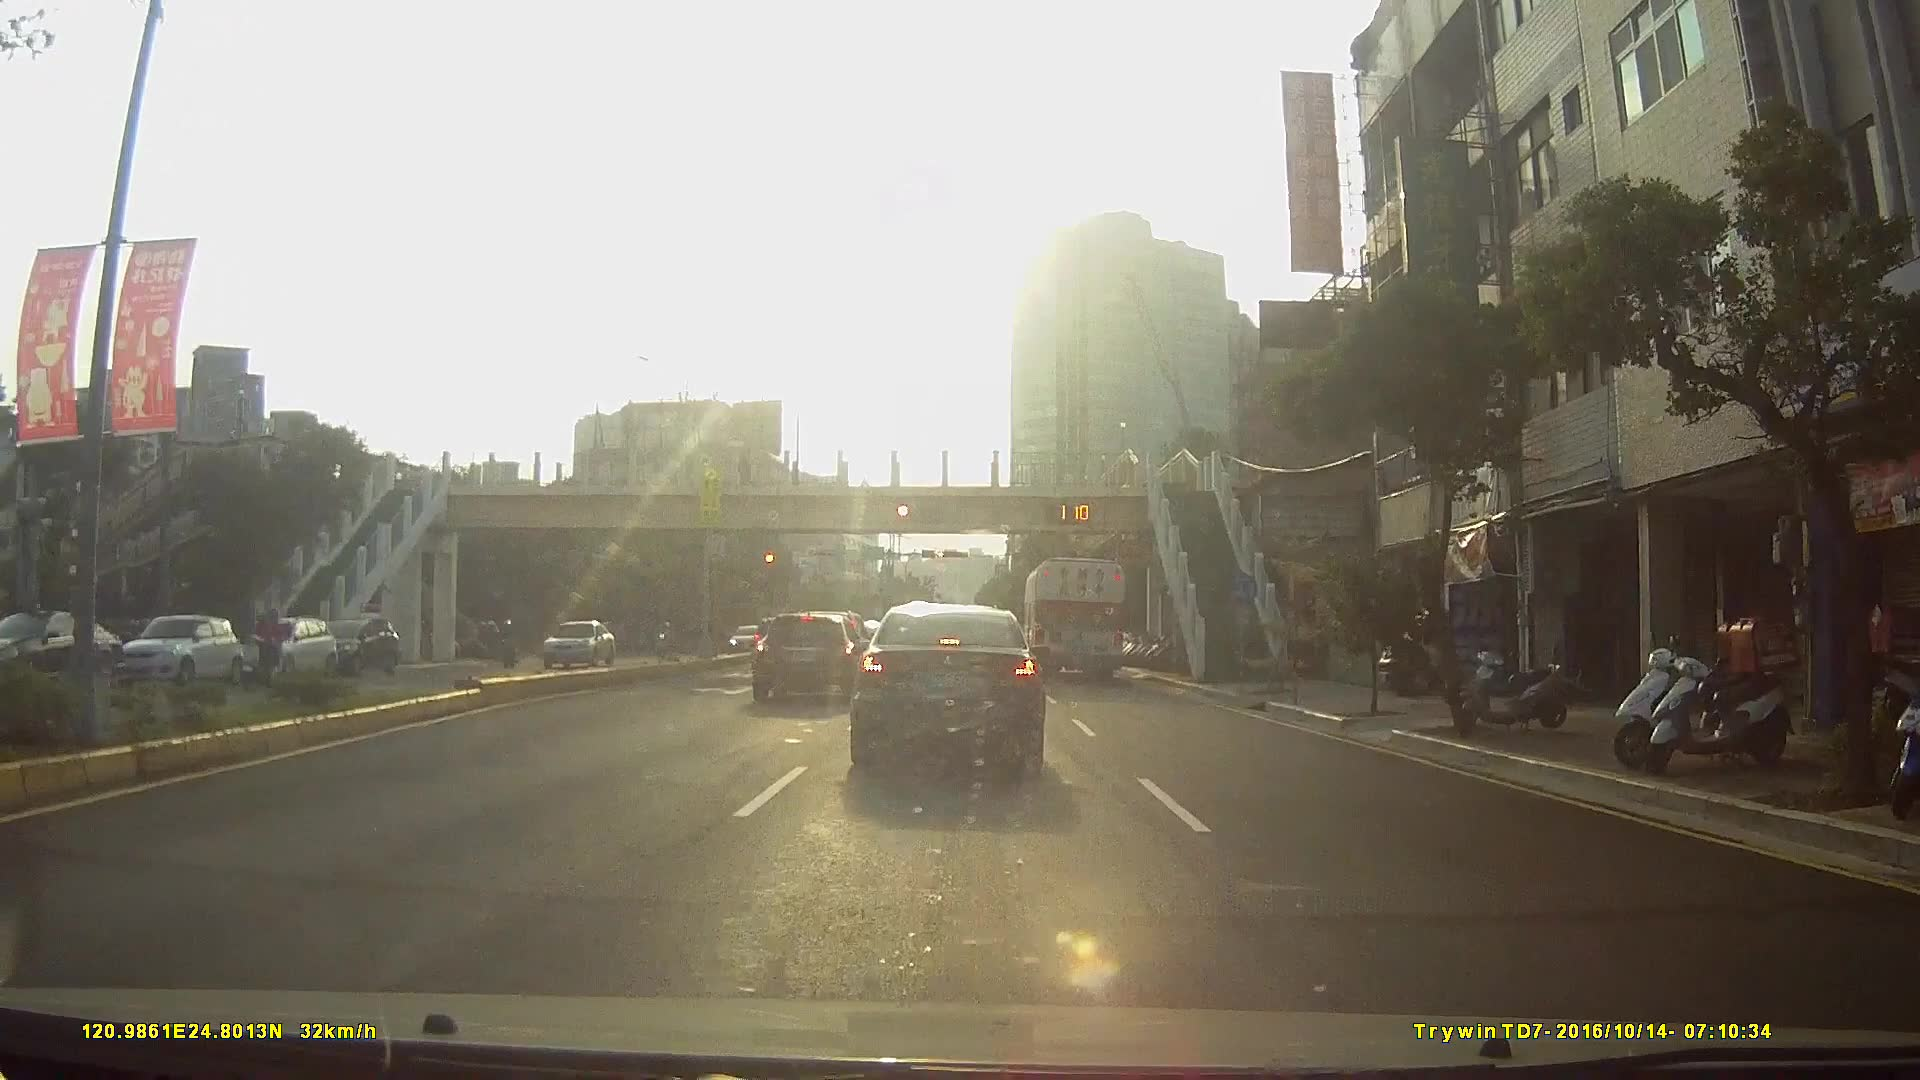rider: (224, 606, 292, 698)
vehicle: (844, 600, 1048, 773), (1021, 553, 1128, 682), (746, 609, 867, 705), (0, 609, 123, 689), (110, 614, 240, 688), (226, 616, 336, 680), (313, 616, 398, 677), (531, 619, 611, 672), (725, 624, 762, 655)
